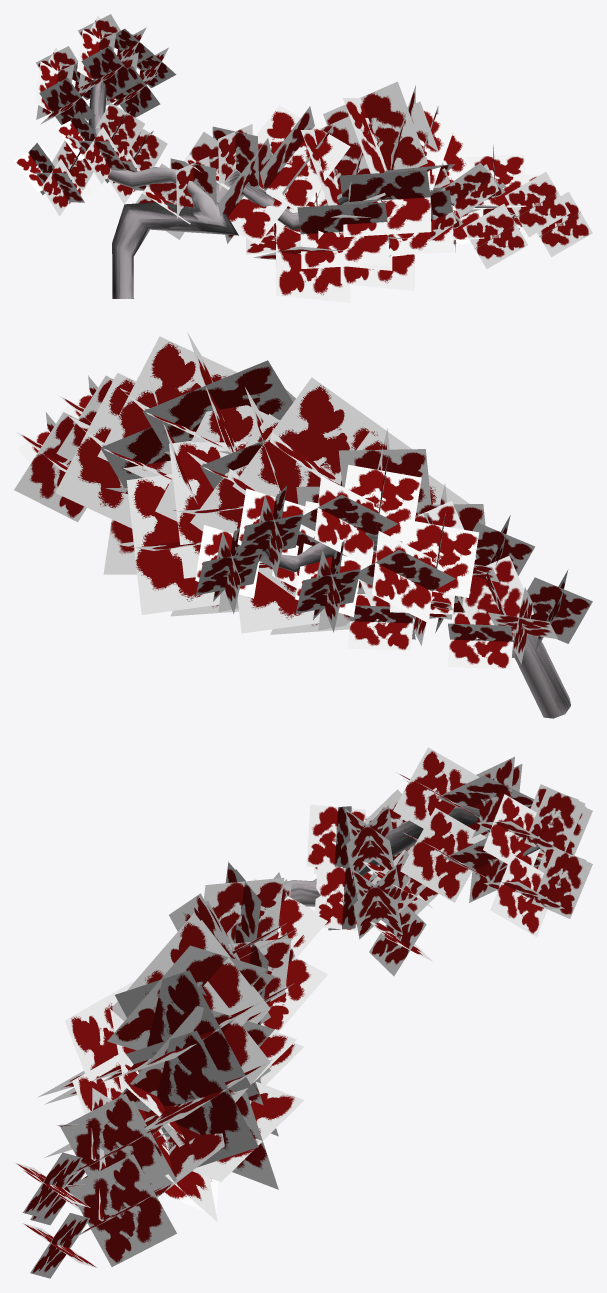
The model's file is Tree_F_freezed.fbx.
3 renders of one model, top to bottom at view 1: azimuth 30°, elevation 25°; view 2: azimuth 150°, elevation 25°; view 3: azimuth 270°, elevation 25°, orthographic. The views are drawn at different scales.
Parts seen in each view (by area): view 1: leafF, leafF_3, leafF_4, tree_trunk, leafF3, leafF_5, leafF_6; view 2: leafF, leafF_4, leafF_3, leafF3, leafF_5, leafF_6, tree_trunk; view 3: leafF_4, leafF, leafF_6, leafF3, leafF_3, tree_trunk, leafF_5.
Part boxes in pixels (x1,y1,x2,y2): leafF: [56, 14, 569, 270]; leafF_3: [14, 46, 527, 302]; leafF_4: [105, 34, 592, 290]; tree_trunk: [88, 53, 517, 298]; leafF3: [58, 16, 569, 270]; leafF_5: [15, 47, 526, 301]; leafF_6: [106, 49, 591, 290]; leafF: [56, 332, 535, 614]; leafF_4: [14, 373, 465, 650]; leafF_3: [155, 387, 592, 669]; leafF3: [58, 338, 534, 614]; leafF_5: [156, 390, 590, 668]; leafF_6: [17, 375, 462, 650]; tree_trunk: [265, 532, 570, 718]; leafF_4: [22, 807, 592, 1278]; leafF: [14, 747, 585, 1218]; leafF_6: [25, 809, 592, 1266]; leafF3: [19, 750, 583, 1204]; leafF_3: [22, 764, 592, 1225]; tree_trunk: [44, 804, 540, 1211]; leafF_5: [25, 764, 591, 1208].
Size of the model in its own units: 183 by 85.18 by 133.
